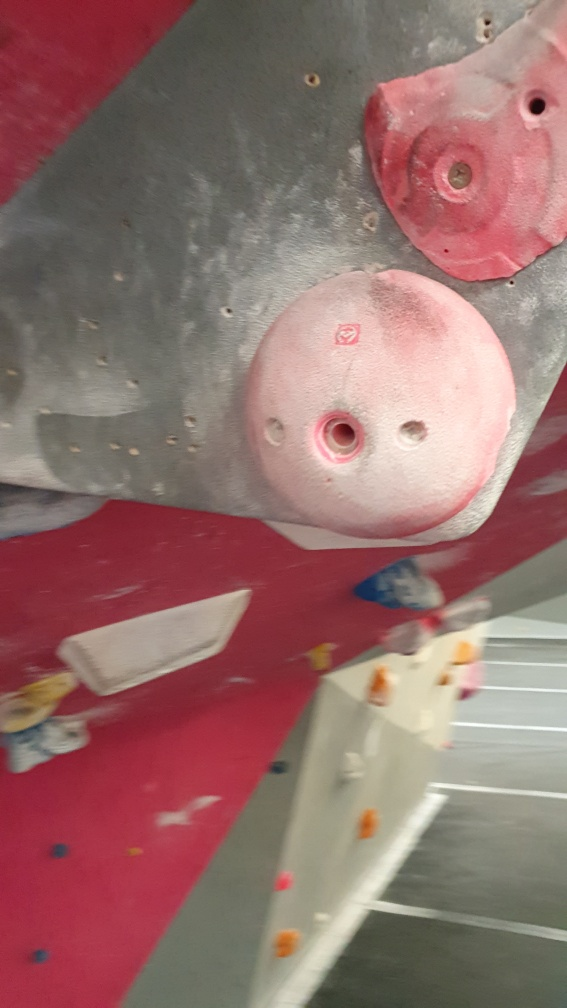Jug: (351, 555, 450, 612)
Pinch: (56, 583, 255, 696)
Sloper: (237, 270, 522, 548)
